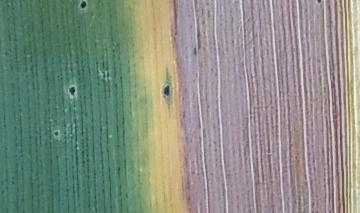tarspot: (65, 83, 80, 99), (160, 83, 173, 99), (76, 1, 90, 11), (51, 129, 62, 139), (314, 1, 324, 7)
